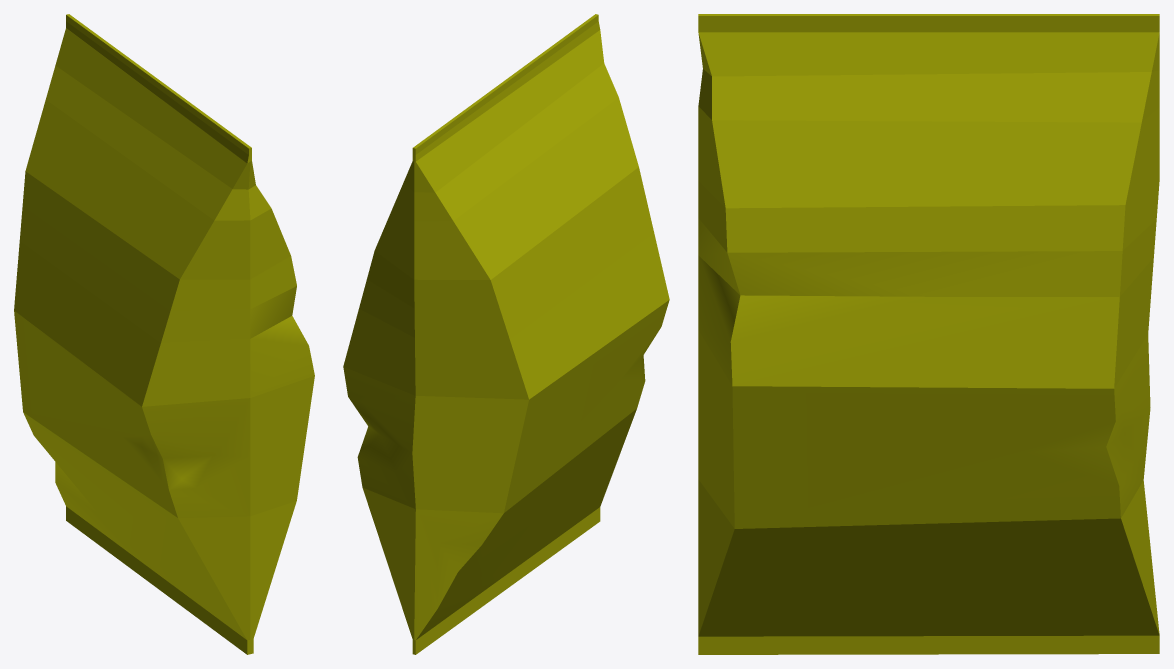
Rendered from YellowWrapper.fbx.
3 renders of one model, left to right at view 1: azimuth 30°, elevation 25°; view 2: azimuth 150°, elevation 25°; view 3: azimuth 270°, elevation 25°, orthographic. The views are drawn at different scales.
Visible parts, largest first — view 1: Junkfood1; view 2: Junkfood1; view 3: Junkfood1.
Boxes of the visible parts, x1,y1,x2,y2 form: Junkfood1: [14, 14, 314, 654]; Junkfood1: [343, 14, 669, 654]; Junkfood1: [698, 14, 1159, 654].
Size of the model in its own units: 0.8384 by 2.26 by 1.48.
